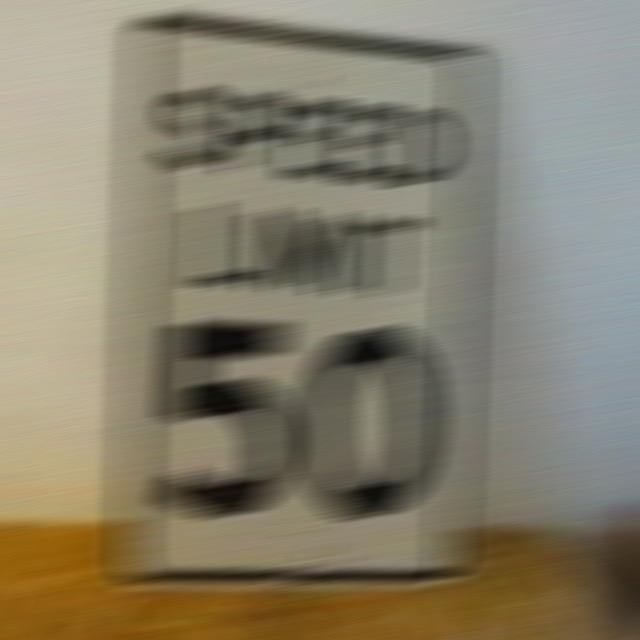speedLimit50: (120, 14, 480, 596)
